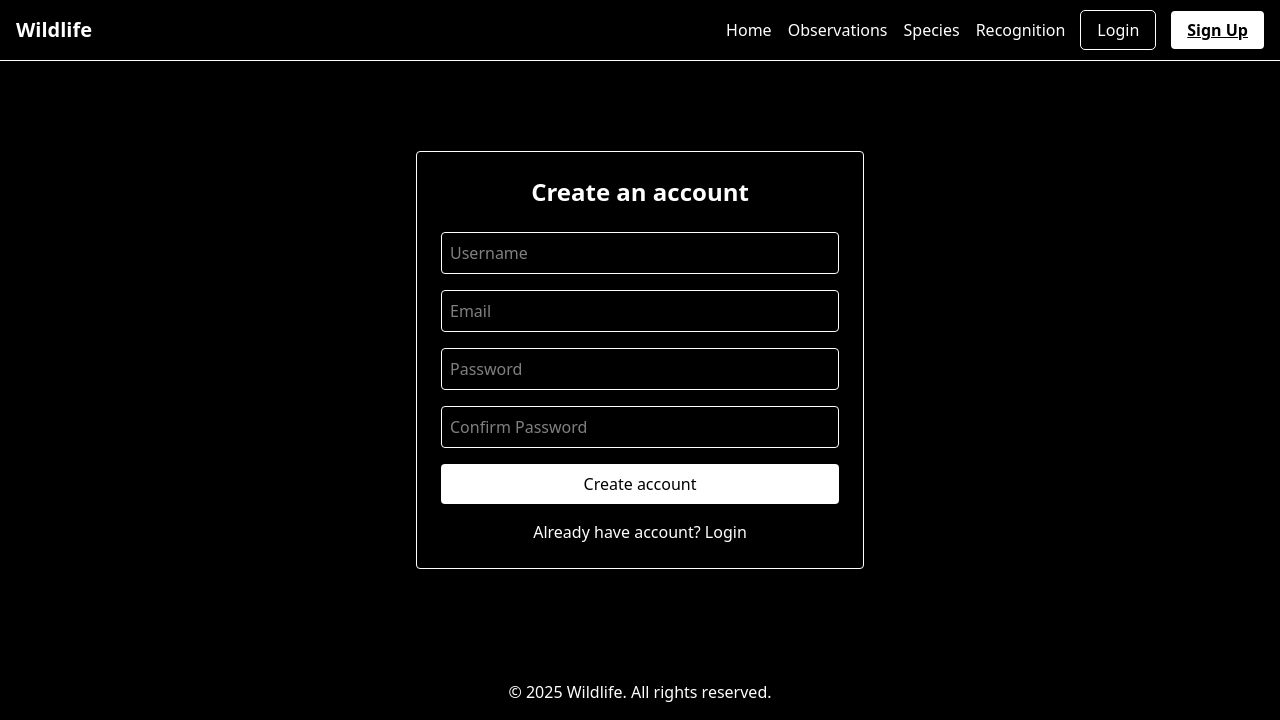
it: SignUp Page › validates minimum password length
The width and height of the screenshot is (1280, 720).
Type "testuser" into the field with test id "username-input". click: (640, 253)
box: [441, 232, 839, 274]
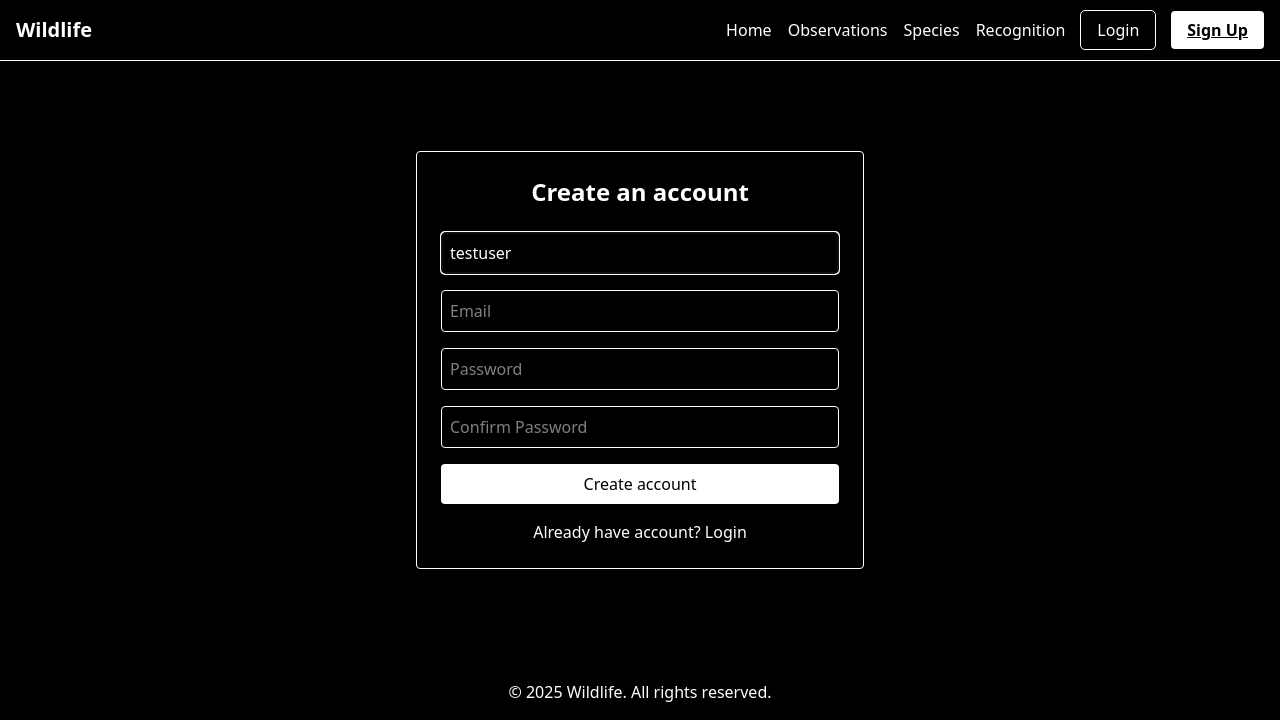
Type "test@example.com" into the field with test id "email-input". click: (640, 311)
box: [441, 290, 839, 332]
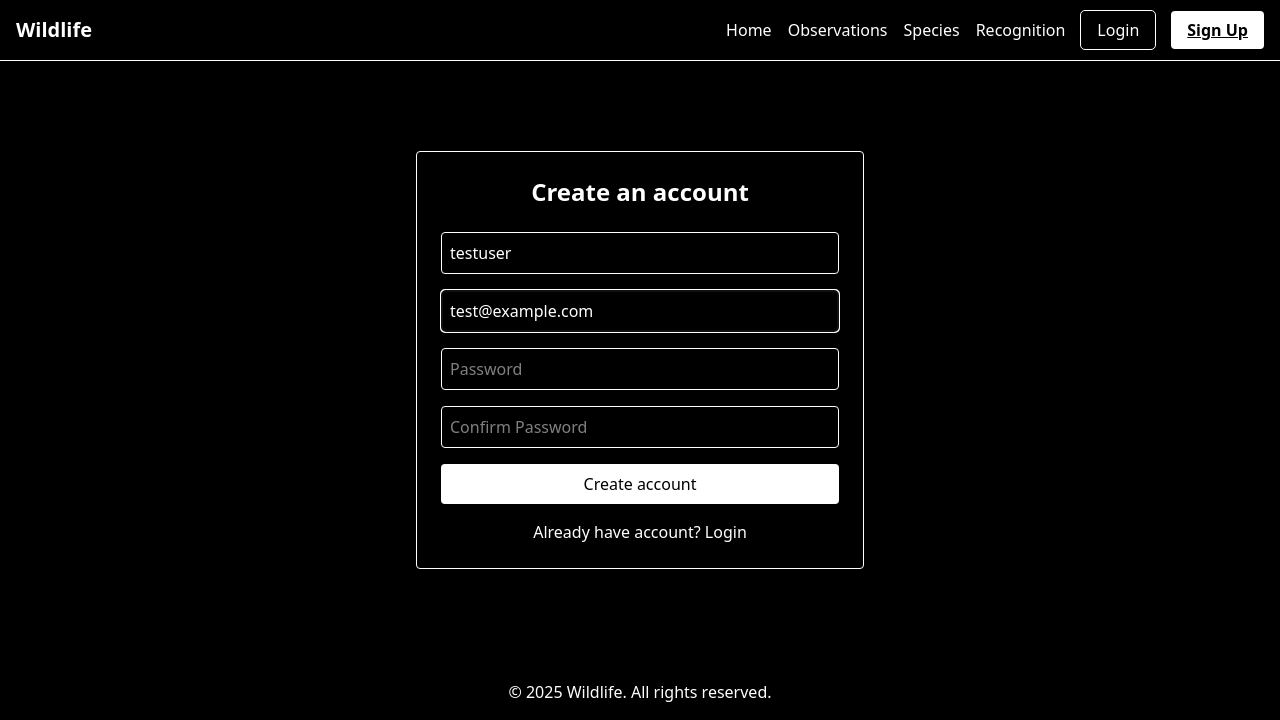
Type "12345" into the password field with test id "password-input". click: (640, 369)
box: [441, 348, 839, 390]
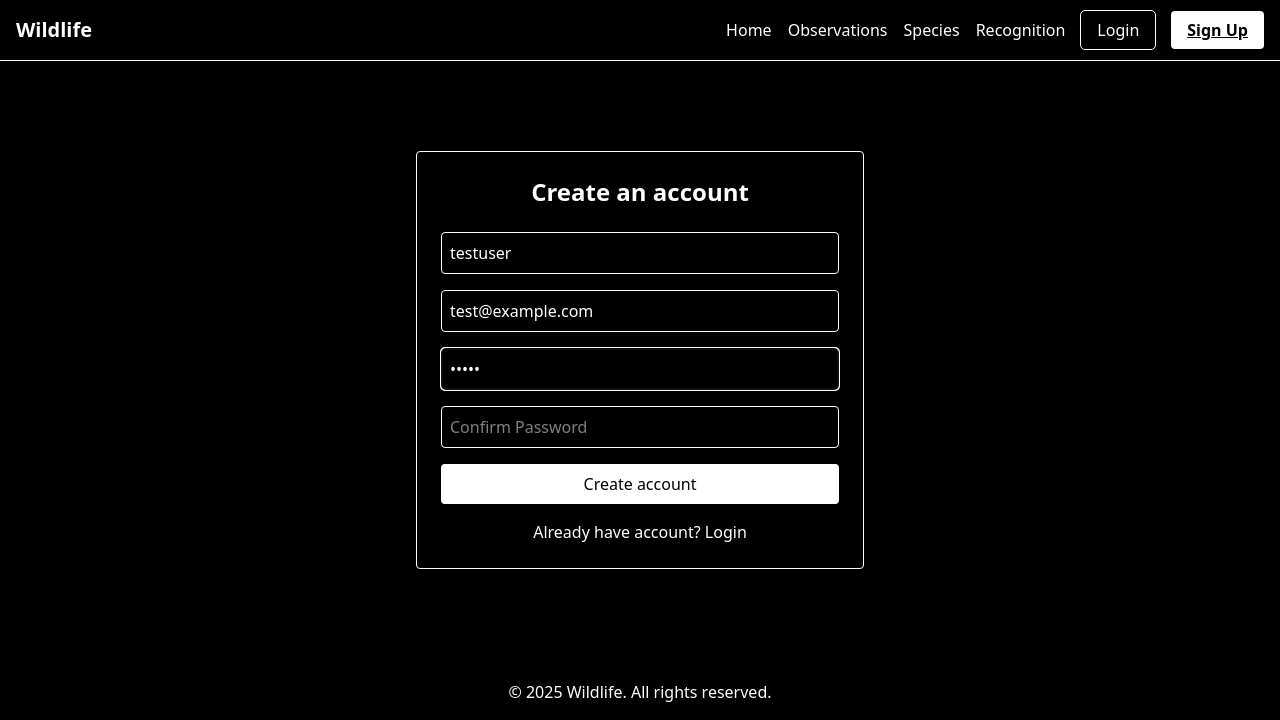
Type "12345" into the password field with test id "confirm-password-input". click: (640, 427)
box: [441, 406, 839, 448]
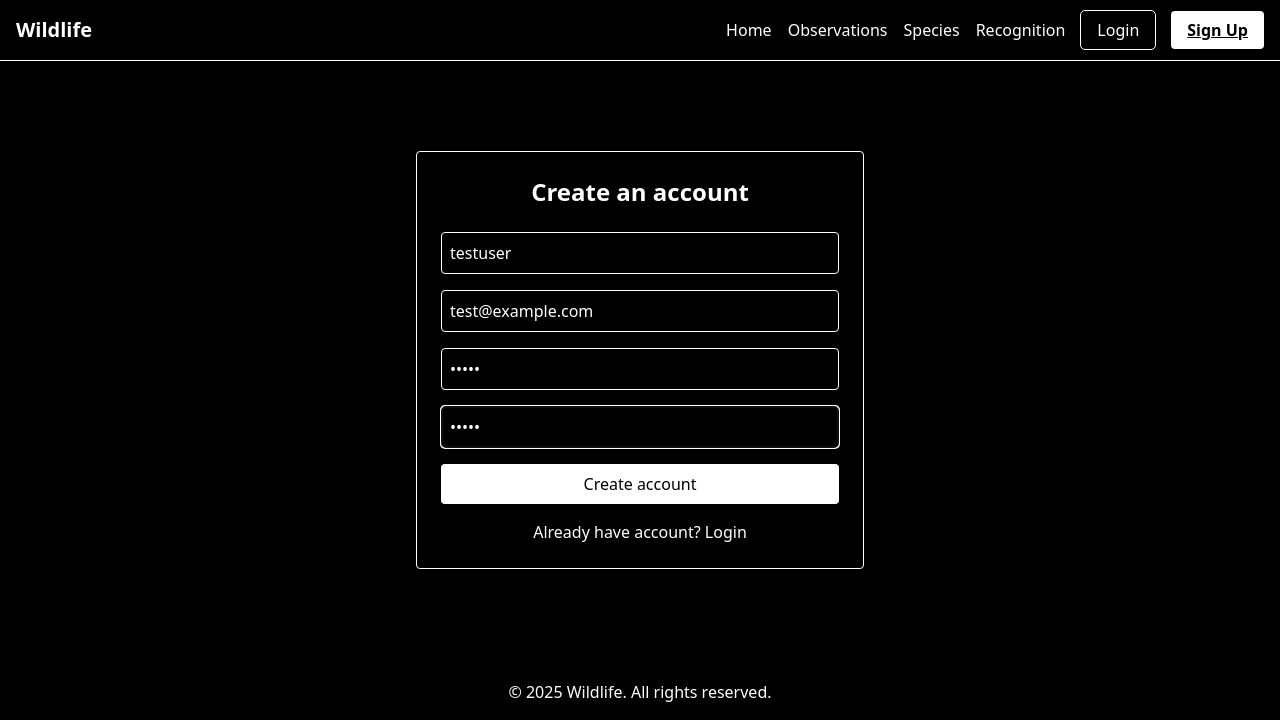
Click the button with test id "signup-button". click: (640, 484)
box: [441, 464, 839, 504]
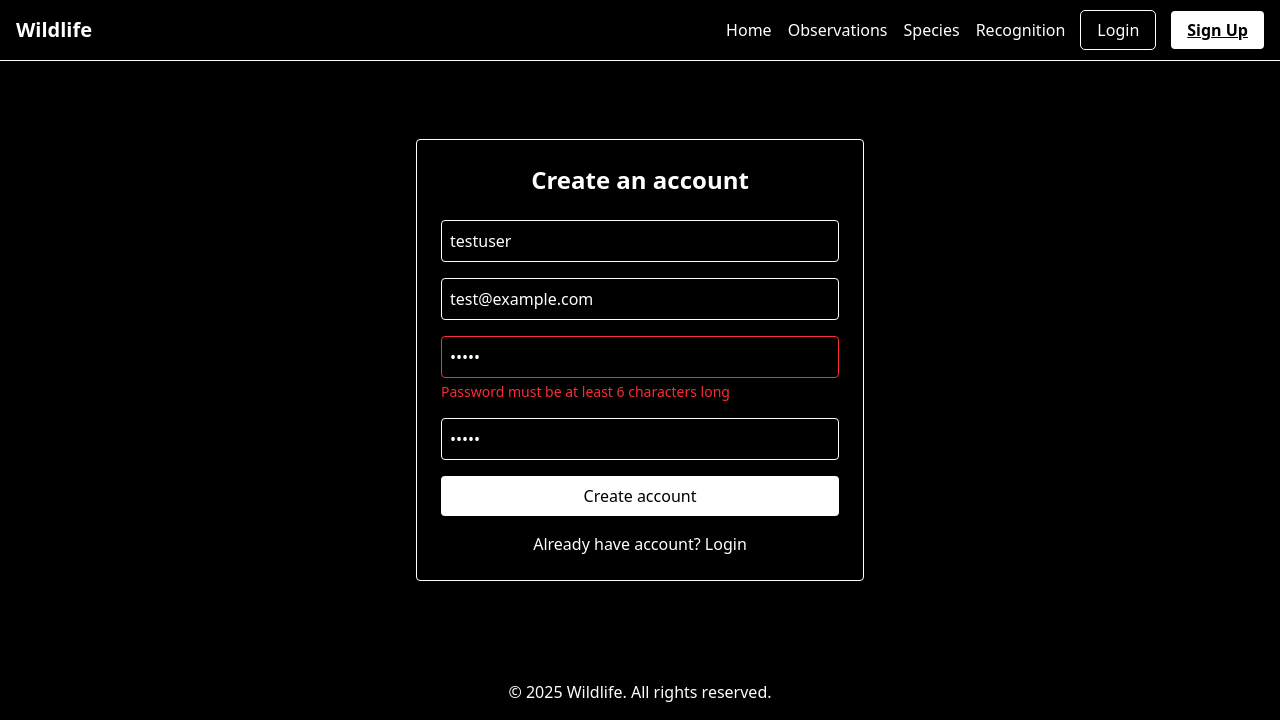
Check: the text with test id "password-error" reads "Password must be at least 6 characters long", box [441, 382, 730, 401]
